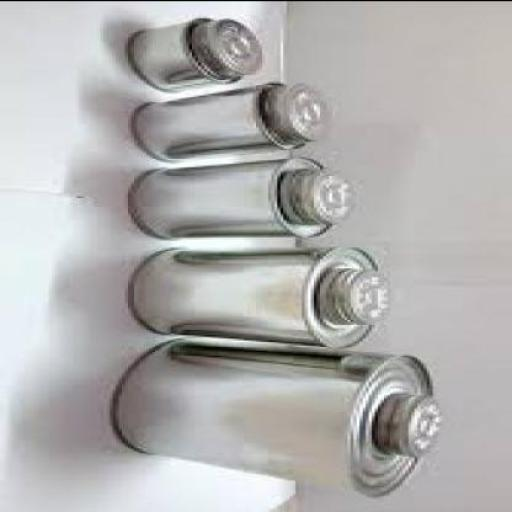metal: (113, 336, 451, 496), (128, 243, 396, 347), (126, 153, 360, 236), (131, 80, 329, 161), (131, 16, 265, 90)
